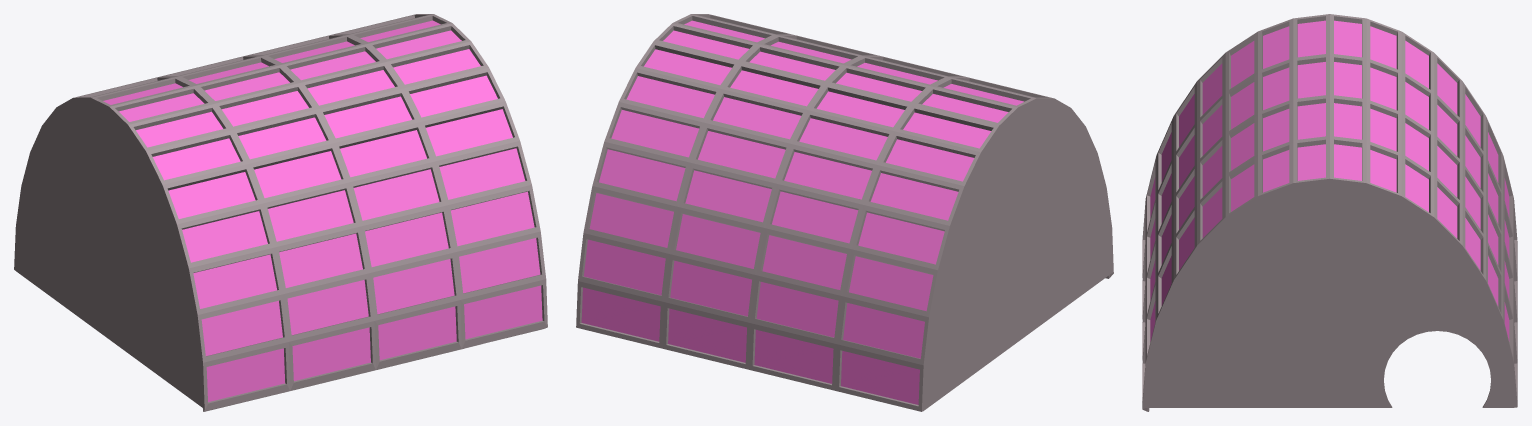
The model's file is Halle_gedreht.fbx.
3 renders of one model, left to right at view 1: azimuth 30°, elevation 25°; view 2: azimuth 150°, elevation 25°; view 3: azimuth 270°, elevation 25°, orthographic. The views are drawn at different scales.
Parts seen in each view (by area): view 1: Halle.003; view 2: Halle.003; view 3: Halle.003.
Boxes of the visible parts, x1,y1,x2,y2 form: Halle.003: (14,14,547,411); Halle.003: (576,14,1113,411); Halle.003: (1142,14,1517,411).
Bounding box in the file's own units: 1453 × 962 × 1398.
